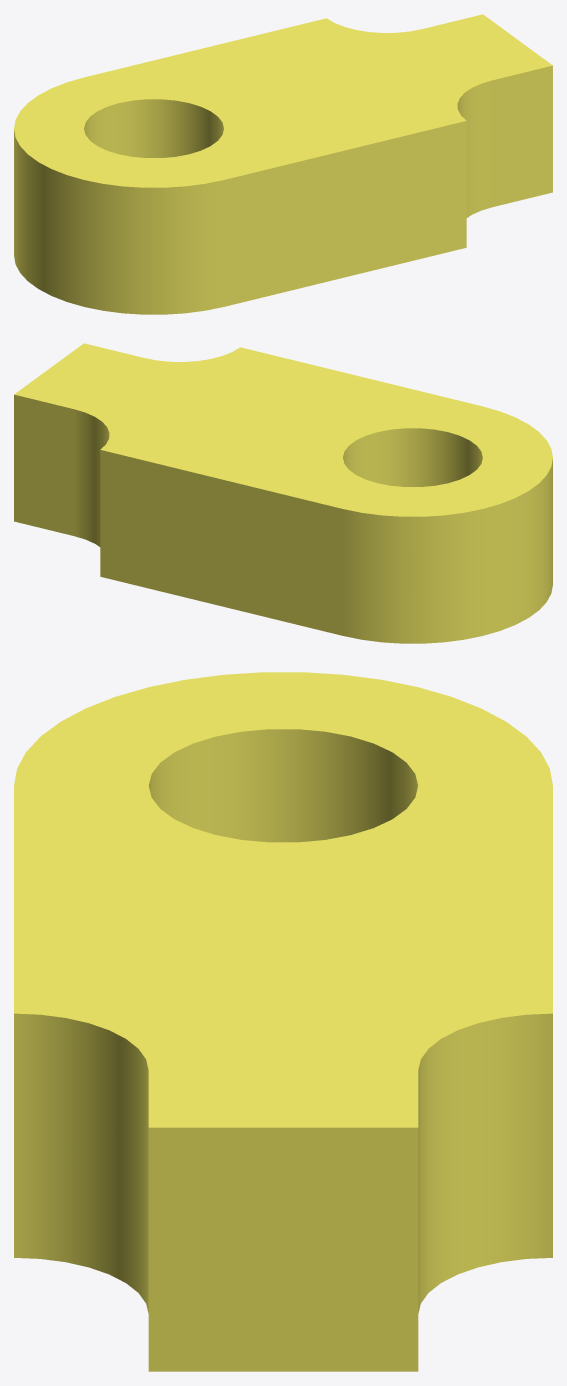
File: anexo_2_-_modelo_04.glb
The picture shows the model from 3 angles, top to bottom: view 1: azimuth 30°, elevation 25°; view 2: azimuth 150°, elevation 25°; view 3: azimuth 270°, elevation 25°; orthographic projection. The views are drawn at different scales.
Parts seen in each view (by area): view 1: Anexo 2 - Modelo 04.SLDPRT; view 2: Anexo 2 - Modelo 04.SLDPRT; view 3: Anexo 2 - Modelo 04.SLDPRT.
Boxes of the visible parts, x1,y1,x2,y2 form: Anexo 2 - Modelo 04.SLDPRT: [14, 14, 552, 314]; Anexo 2 - Modelo 04.SLDPRT: [14, 343, 552, 643]; Anexo 2 - Modelo 04.SLDPRT: [14, 672, 552, 1371].
Bounding box in the file's own units: 0.04 × 0.01 × 0.02.
